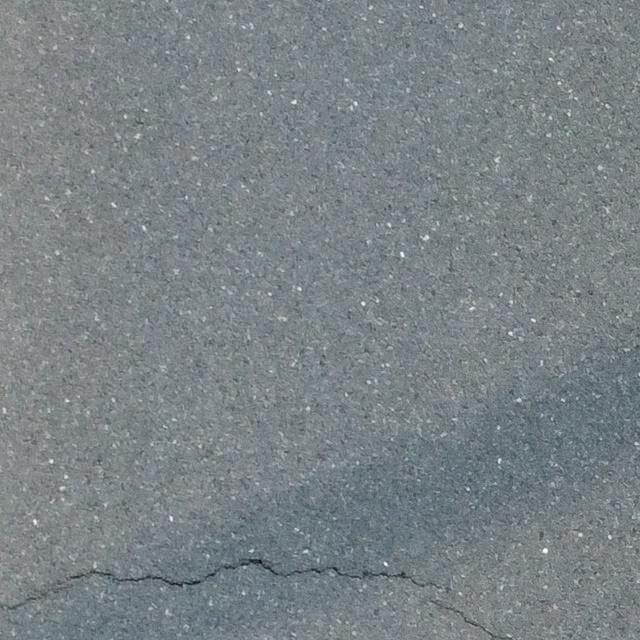TransverseCrack: (1, 558, 513, 640)
